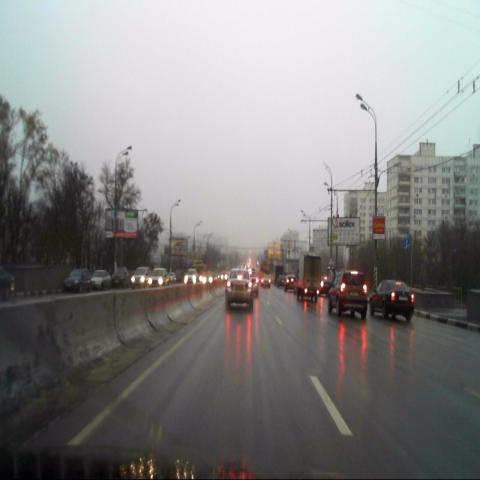6_6: (404, 238, 410, 250)
